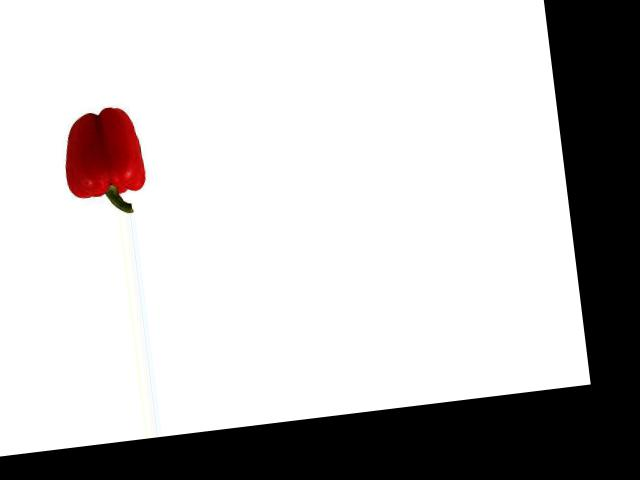bell_pepper: (47, 103, 153, 220)
